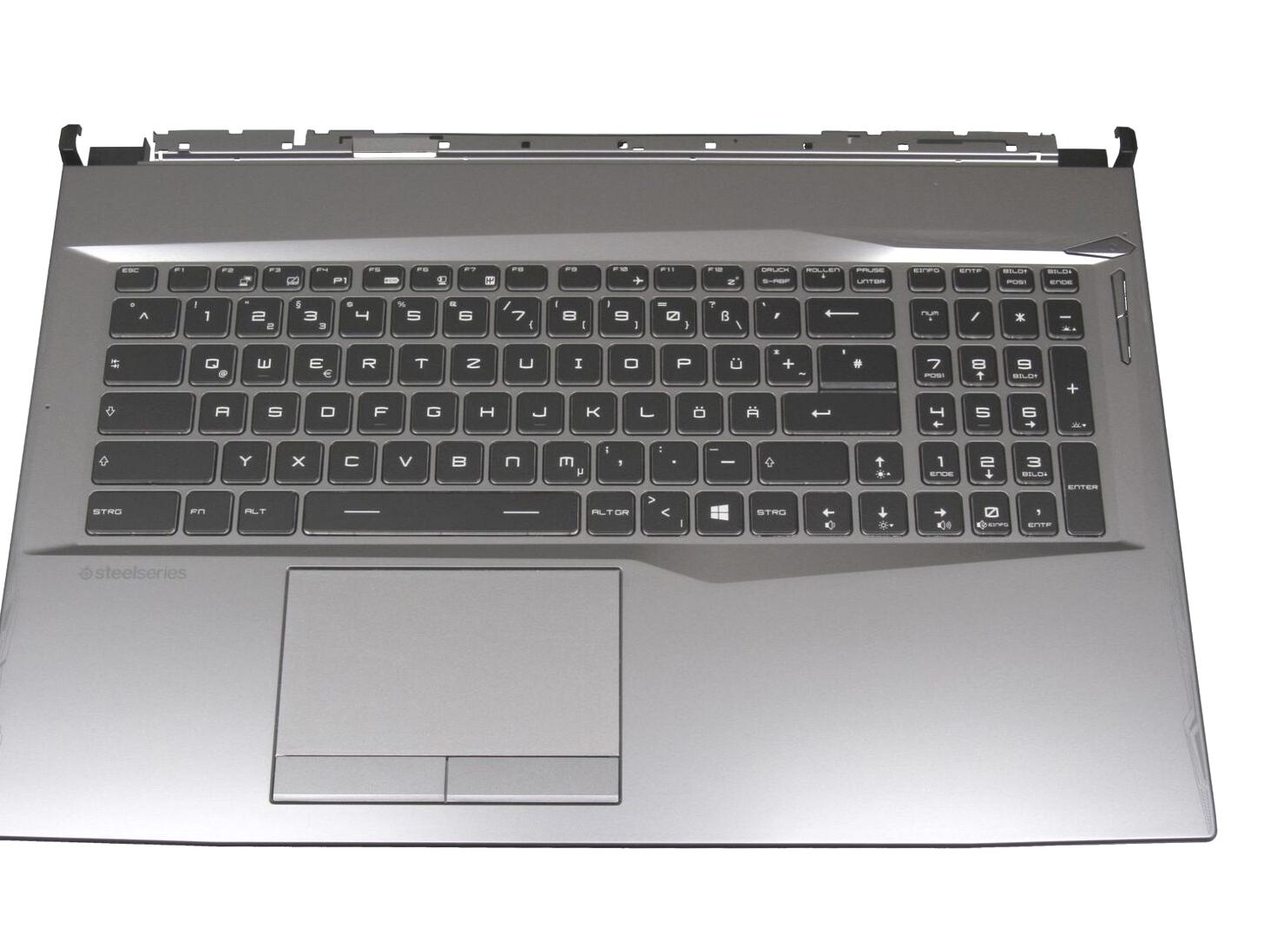0: (648, 293, 695, 334)
1: (181, 293, 228, 335)
2: (234, 293, 280, 335)
3: (285, 293, 332, 335)
4: (337, 293, 384, 334)
5: (389, 293, 435, 335)
6: (440, 293, 488, 334)
7: (492, 293, 539, 334)
8: (543, 293, 591, 335)
9: (596, 293, 643, 334)
a: (196, 387, 245, 431)
accent: (752, 293, 798, 335)
ae: (726, 387, 775, 432)
alt-left: (234, 486, 297, 534)
altgr-right: (583, 486, 635, 534)
b: (431, 436, 483, 482)
c: (325, 437, 375, 482)
caret: (107, 293, 178, 335)
comma: (594, 437, 642, 482)
d: (301, 387, 351, 432)
del: (803, 293, 892, 334)
e: (291, 339, 339, 384)
enter: (779, 386, 897, 431)
f: (355, 387, 403, 431)
g: (407, 387, 456, 431)
h: (460, 387, 509, 431)
hash: (817, 344, 898, 385)
i: (553, 339, 601, 382)
j: (514, 387, 563, 432)
k: (567, 386, 616, 431)
keyboard: (58, 240, 1132, 553)
l: (620, 387, 668, 431)
less: (638, 488, 689, 535)
m: (539, 436, 589, 482)
minus: (700, 438, 750, 482)
n: (485, 436, 536, 482)
o: (605, 339, 654, 383)
oe: (673, 388, 721, 432)
p: (658, 339, 705, 382)
plus: (762, 339, 811, 383)
point: (647, 437, 696, 482)
q: (186, 339, 235, 383)
r: (343, 339, 391, 383)
s: (249, 387, 298, 432)
shift-left: (89, 435, 216, 481)
shift-lock: (95, 387, 193, 431)
shift-right: (754, 436, 847, 482)
space: (297, 486, 580, 534)
ss: (700, 293, 746, 334)
strg-left: (83, 488, 179, 534)
strg-right: (747, 487, 799, 535)
t: (396, 339, 443, 382)
tab: (101, 339, 183, 382)
u: (500, 339, 548, 383)
ue: (710, 339, 758, 383)
v: (379, 436, 429, 482)
w: (239, 339, 286, 383)
x: (272, 437, 322, 482)
y: (218, 437, 268, 482)
z: (448, 339, 496, 383)
